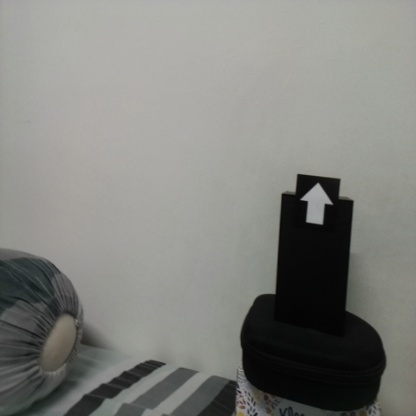id_1: (297, 175, 339, 237)
